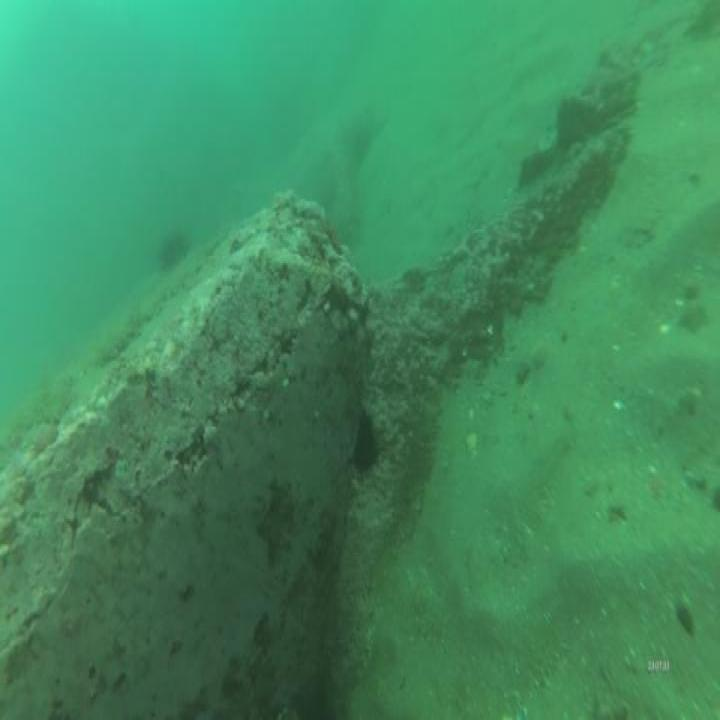echinus: (350, 398, 385, 487), (159, 224, 194, 272)
